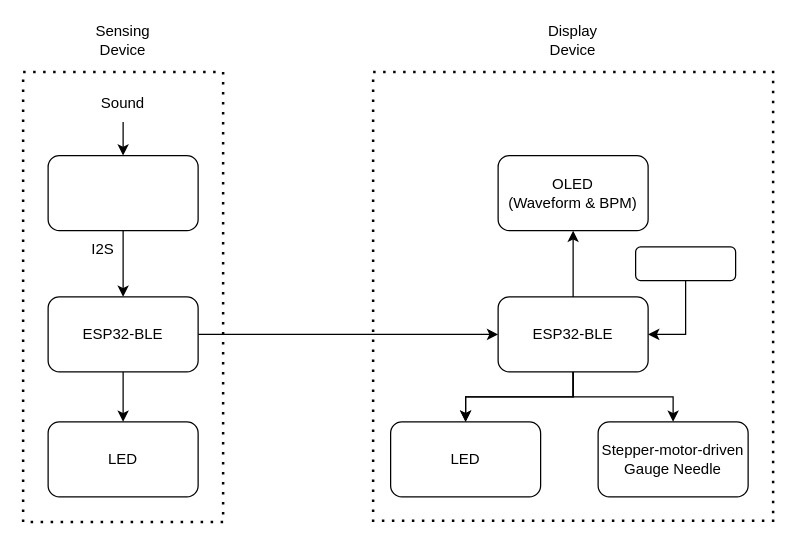
The diagram is 805 pixels wide and 545 high, and some of its shapes have lost their labels. The centre of each missing label's shape, as x and y in pixels:
"Button" goes at [685,263].
"Microphone" goes at [122,192].
